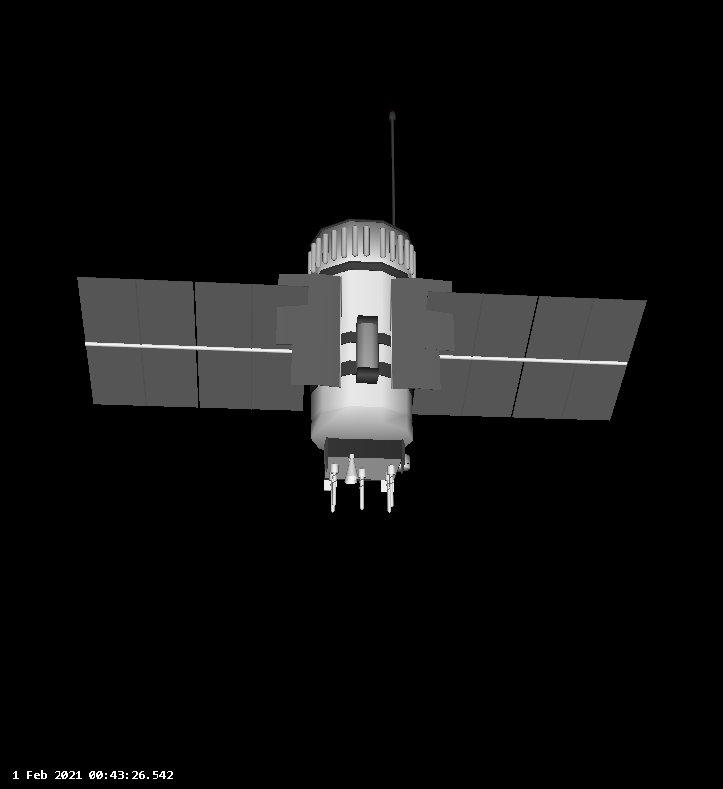body: (309, 219, 415, 442)
solar: (74, 271, 311, 418), (414, 276, 645, 425)
thruster: (385, 465, 402, 509), (359, 474, 367, 513), (346, 459, 355, 488), (331, 469, 339, 497), (332, 470, 335, 514)
